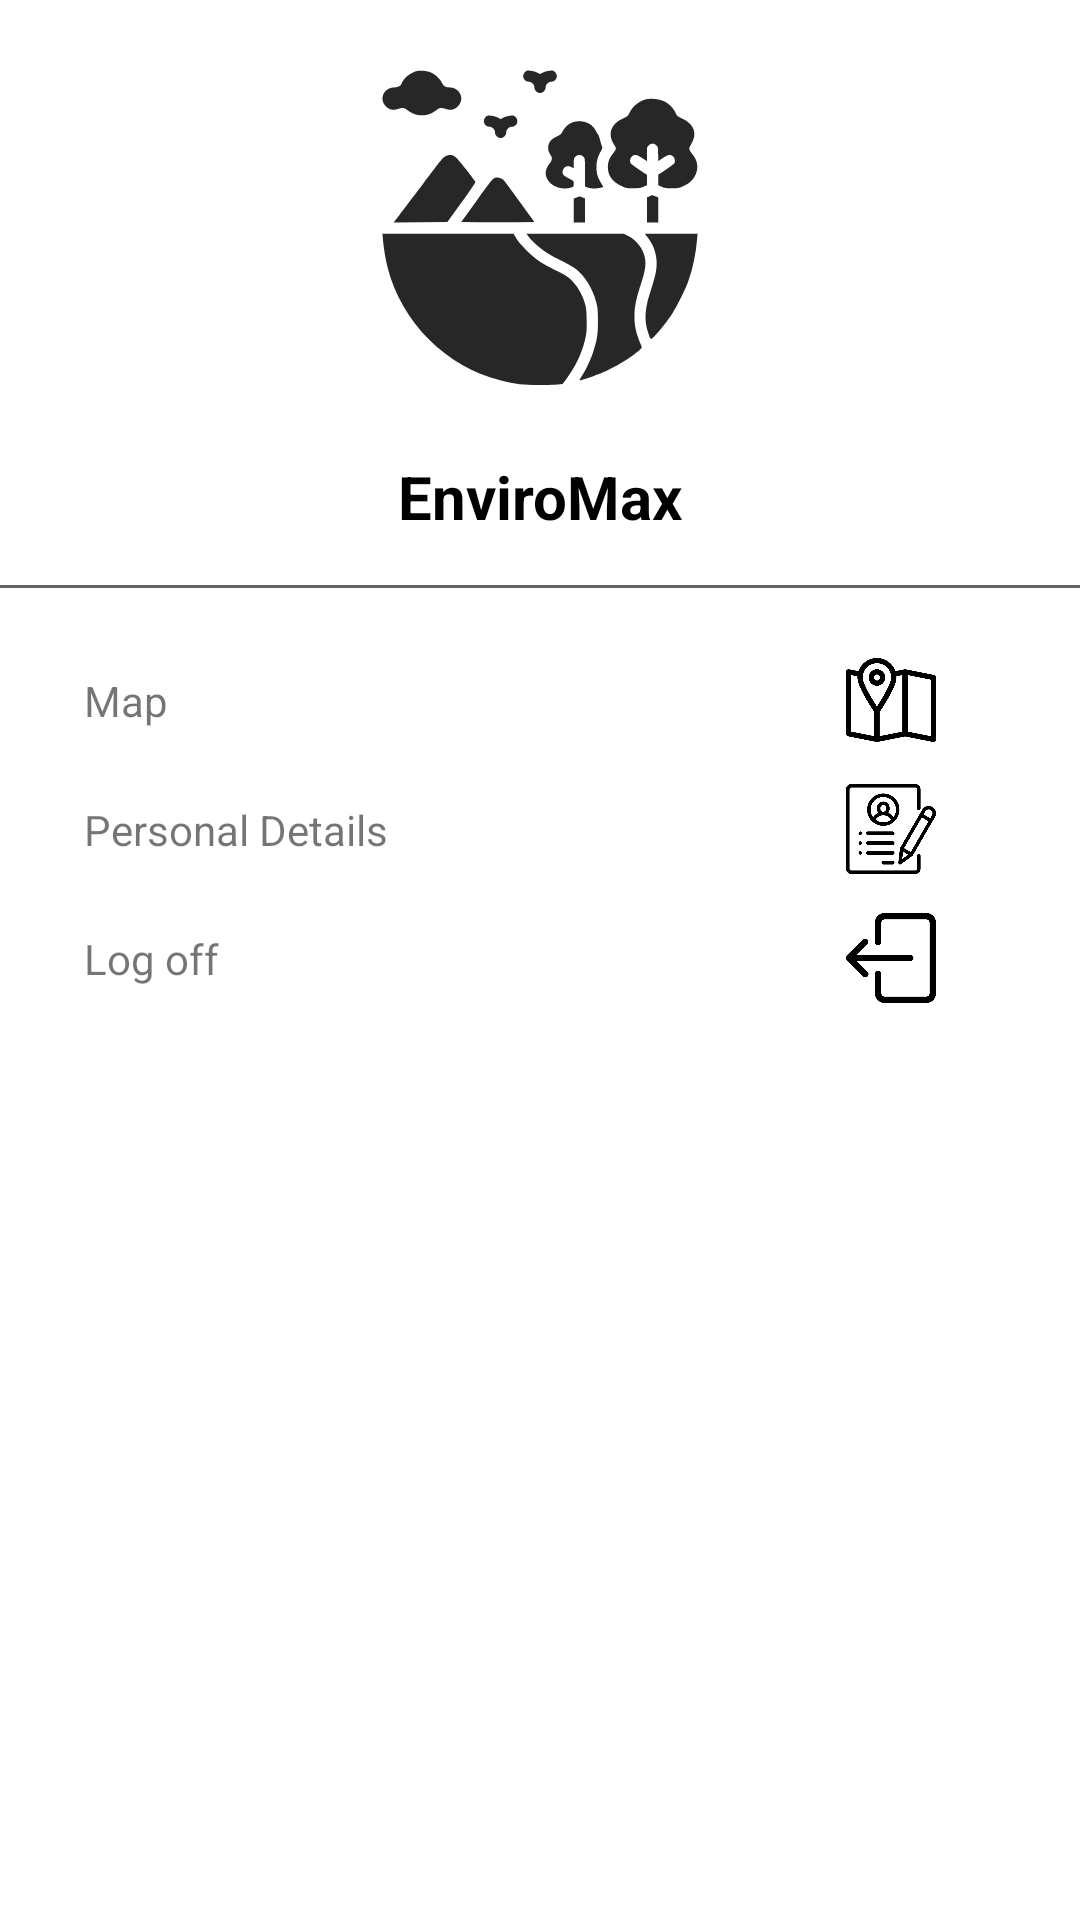

Icon bounding boxes for this 1080x1920 phone screenshot, format box=[x1, y1, x2, y2]:
sign out: box=[846, 913, 936, 1003]
